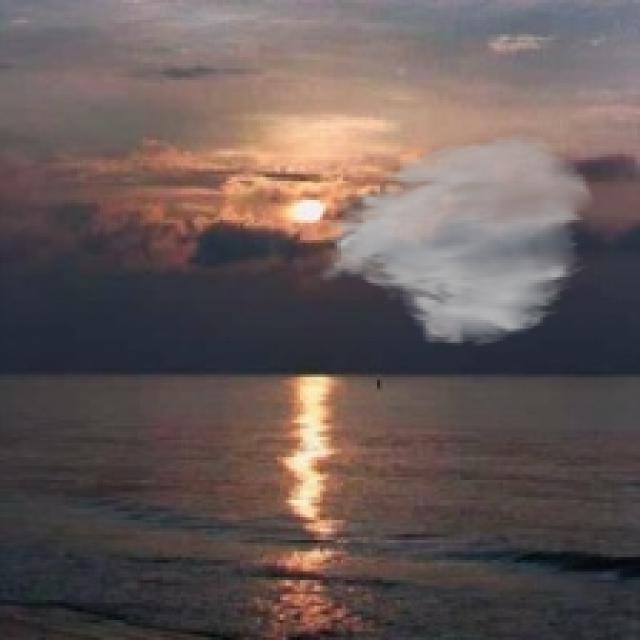Smoke: (314, 134, 597, 349)
